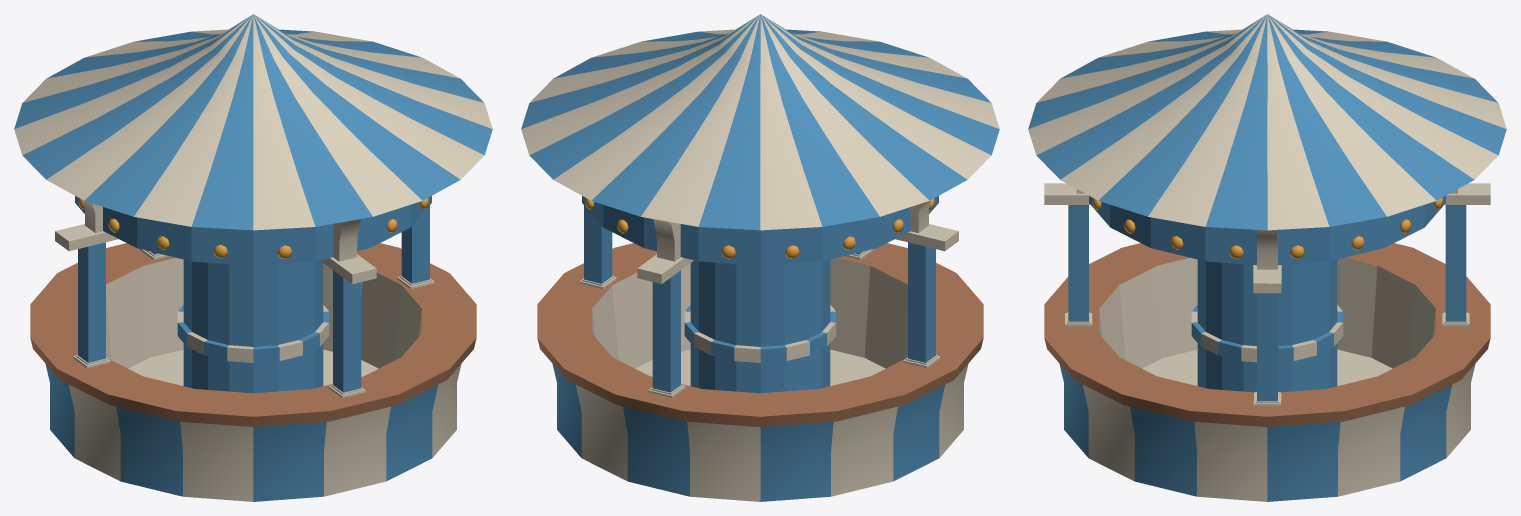
Rendered from F_Shop_01.fbx.
The picture shows the model from 3 angles, left to right: view 1: azimuth 30°, elevation 25°; view 2: azimuth 150°, elevation 25°; view 3: azimuth 270°, elevation 25°; orthographic projection.
Parts seen in each view (by area): view 1: F_Shop_01; view 2: F_Shop_01; view 3: F_Shop_01.
Part boxes in pixels (x1,y1,x2,y2): F_Shop_01: (14,14,492,501); F_Shop_01: (521,14,999,501); F_Shop_01: (1028,14,1506,501).
Bounding box in the file's own units: 462 × 426 × 462.
